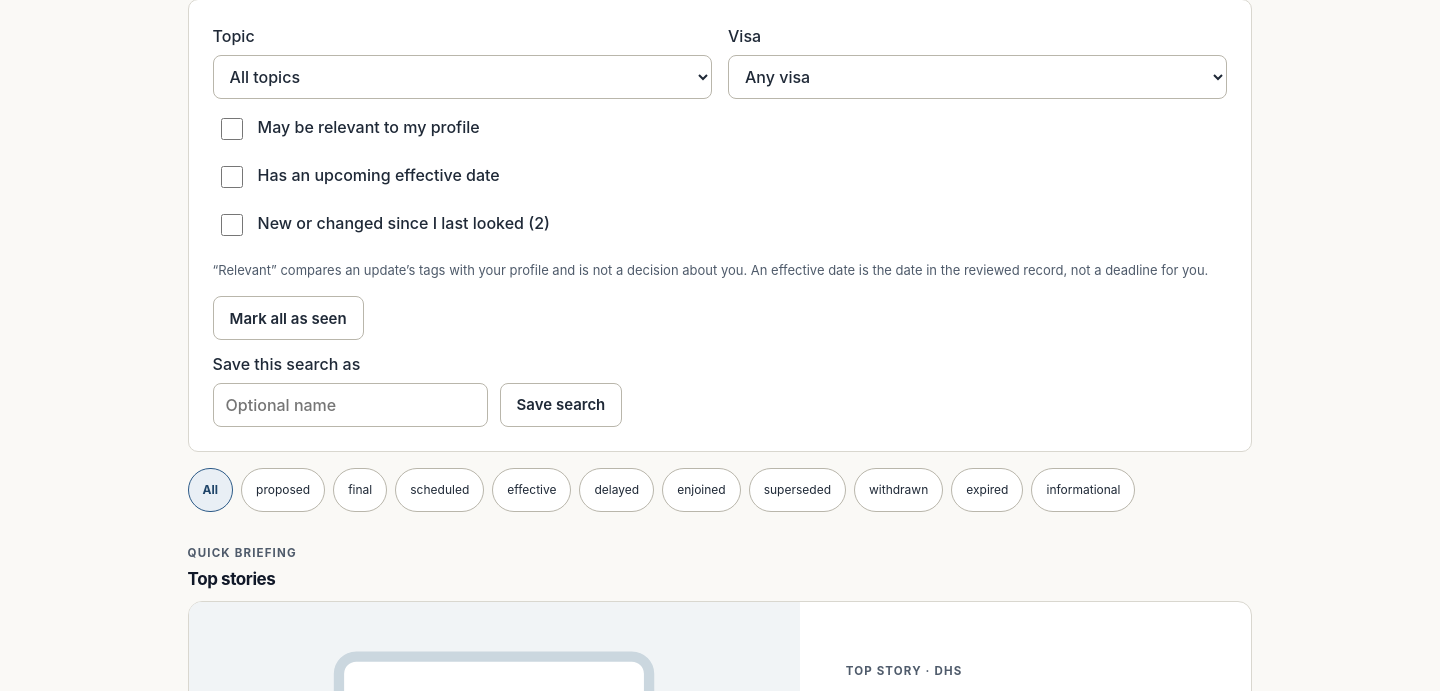
Test: NewsPage discovery (free beta) › explains why a save failed
(page scrolled)
What coordinates should you click on to do the following:
click the button "Save search"
I would click on:
 (561, 405)
Its box is [500, 383, 622, 427].
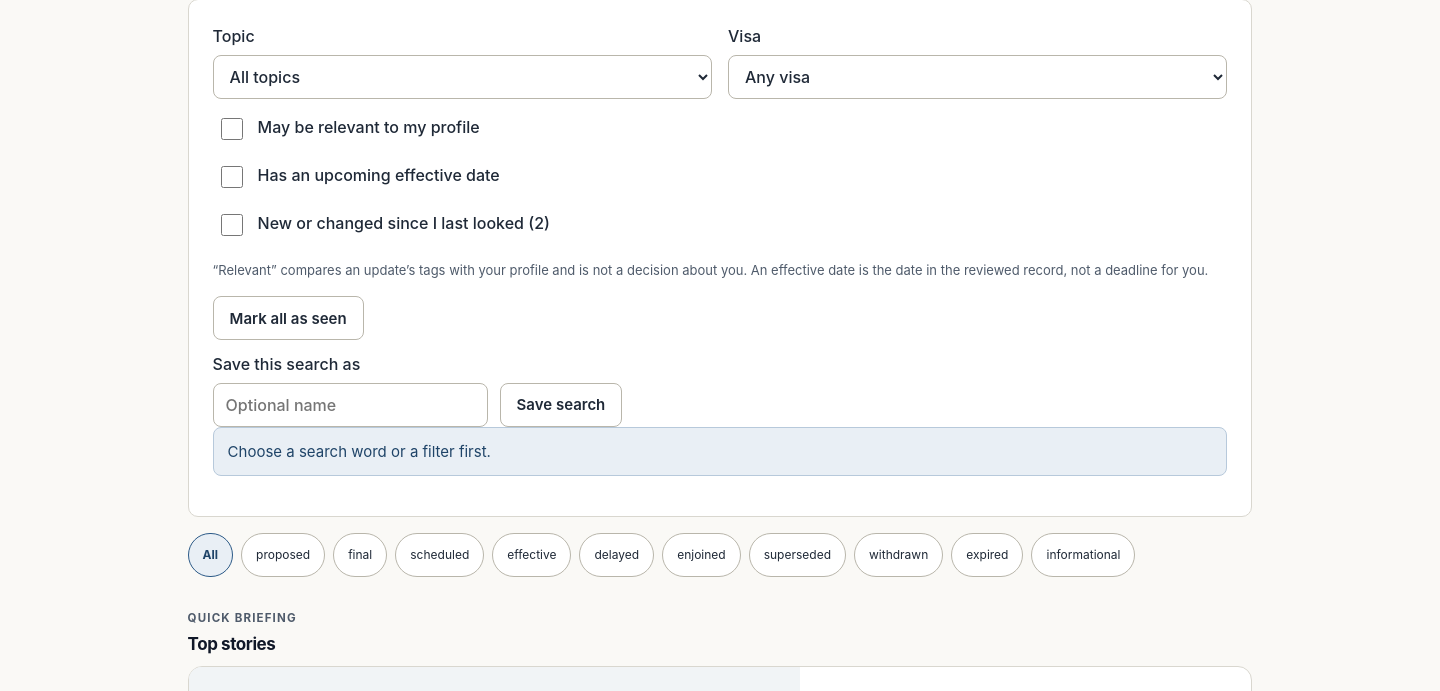
Now the message shows "Choose a search word", box [228, 442, 491, 461]
